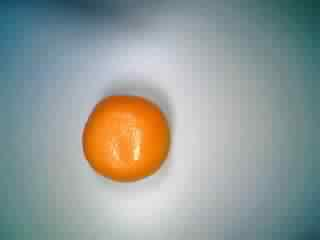orange: (75, 90, 176, 187)
